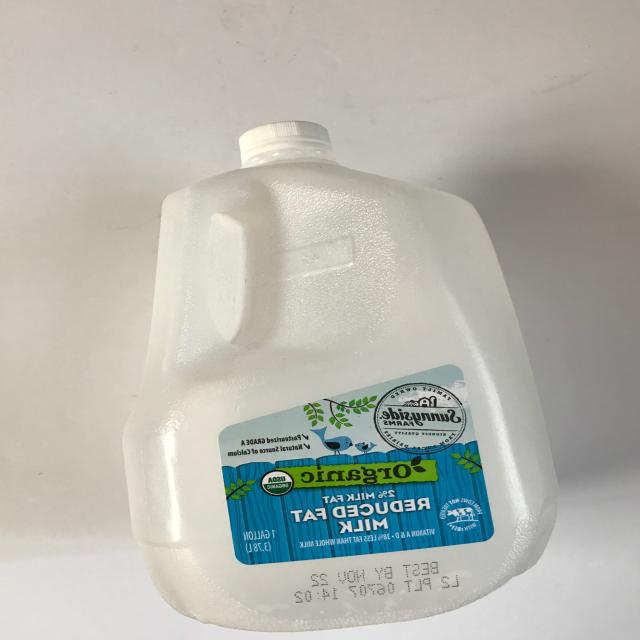plastic: (121, 119, 560, 633)
